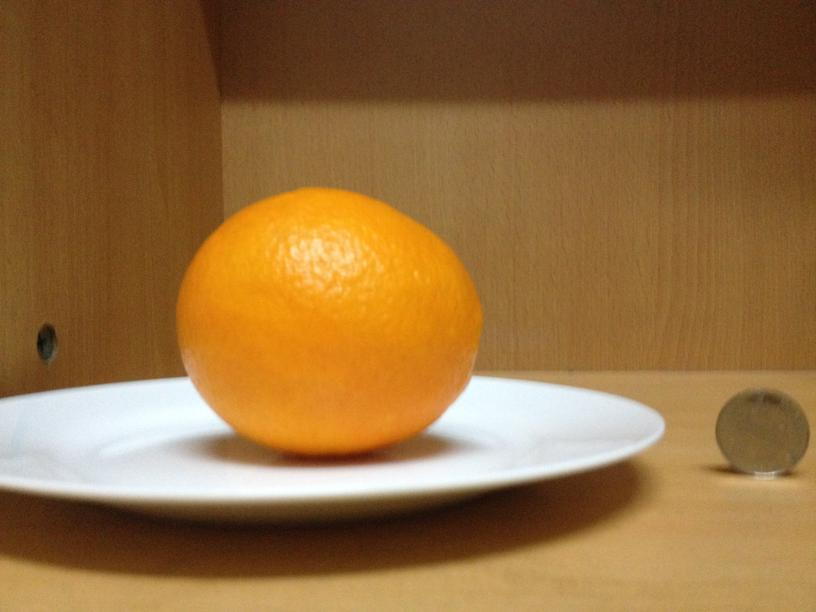coin: (716, 388, 811, 477)
orange: (171, 181, 483, 454)
